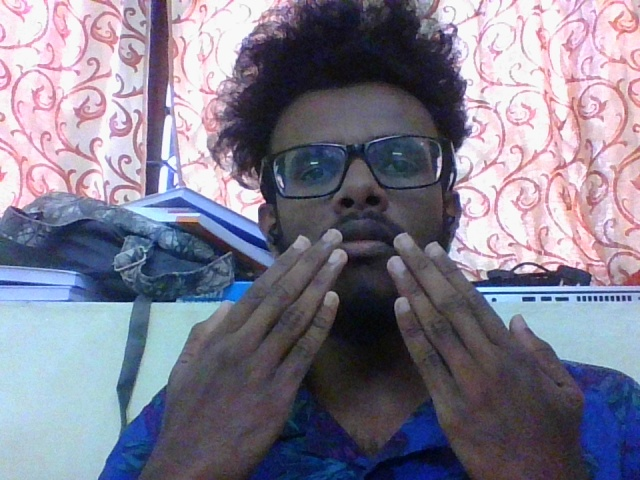thank: (156, 222, 592, 462)
